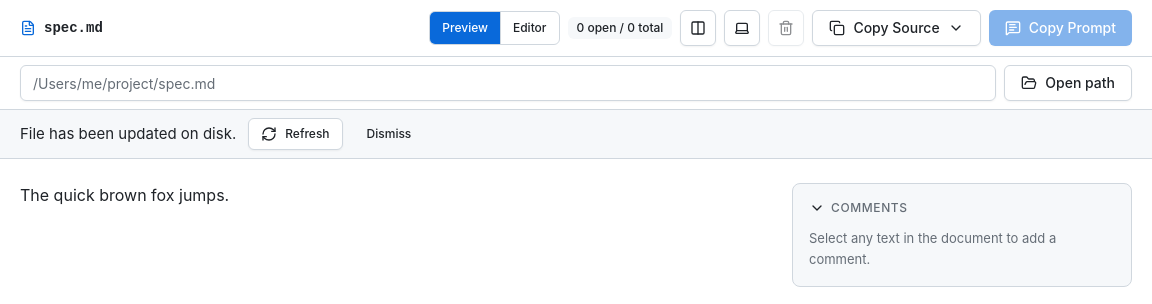
Test case: App file watcher banner › refreshes the document when Refresh is clicked
The image size is (1152, 304).
Check: the text "spec.md" is shown, box [44,18,103,38]
Check: the text "File has been updated on disk." is shown, box [20,122,236,146]
Click the button "Refresh" at (295, 134), box [248,118,343,150]
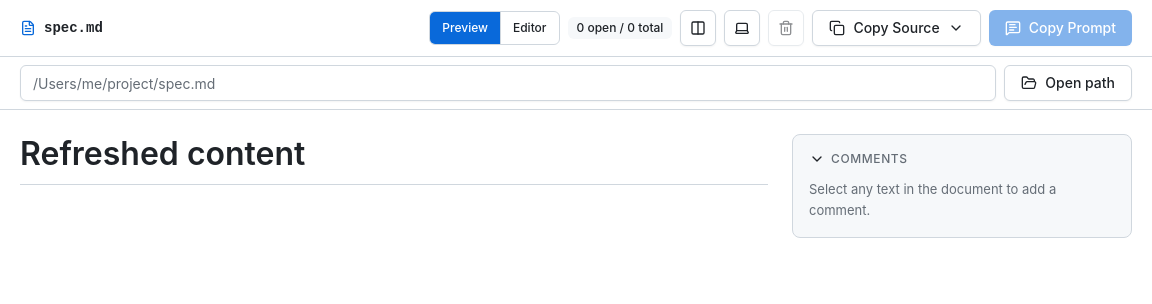
Check: the heading "Refreshed content" is shown, box [20,134,768,185]
Check: the text "File has been updated on disk." is gone
